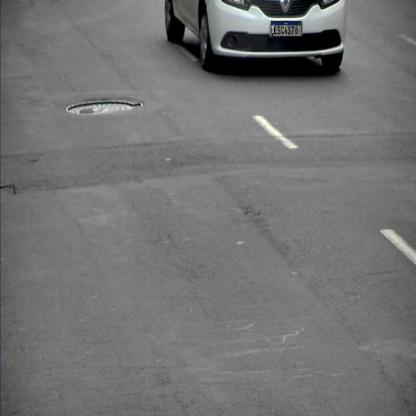PlacaM: (271, 21, 302, 37)
